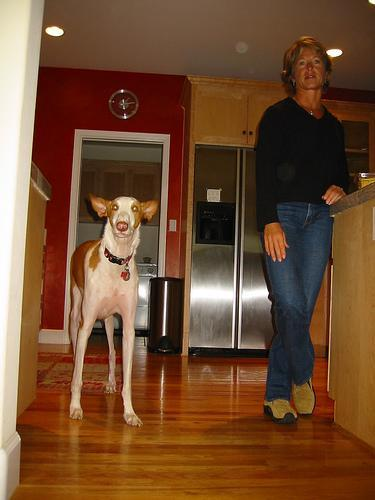Ibizan_hound: (62, 192, 161, 428)
